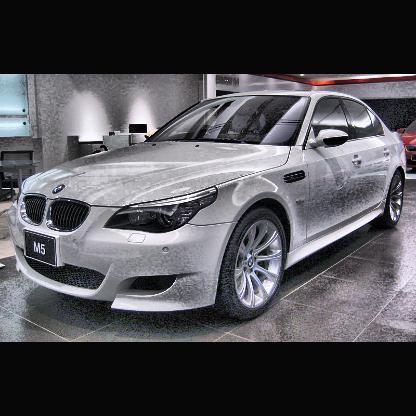BMW M5 Sedan 2010: (10, 93, 405, 324)
